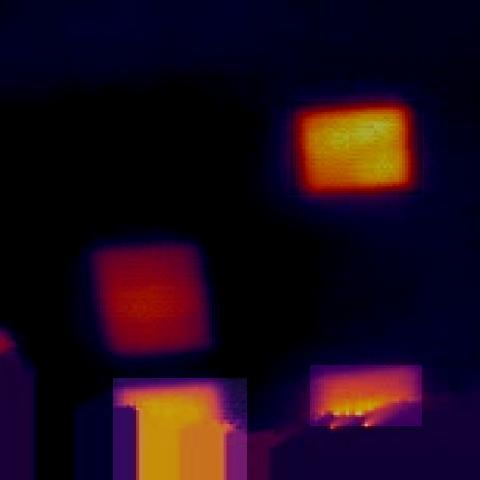fault: (84, 234, 228, 360), (114, 378, 248, 480), (290, 101, 422, 195), (310, 365, 422, 426)
